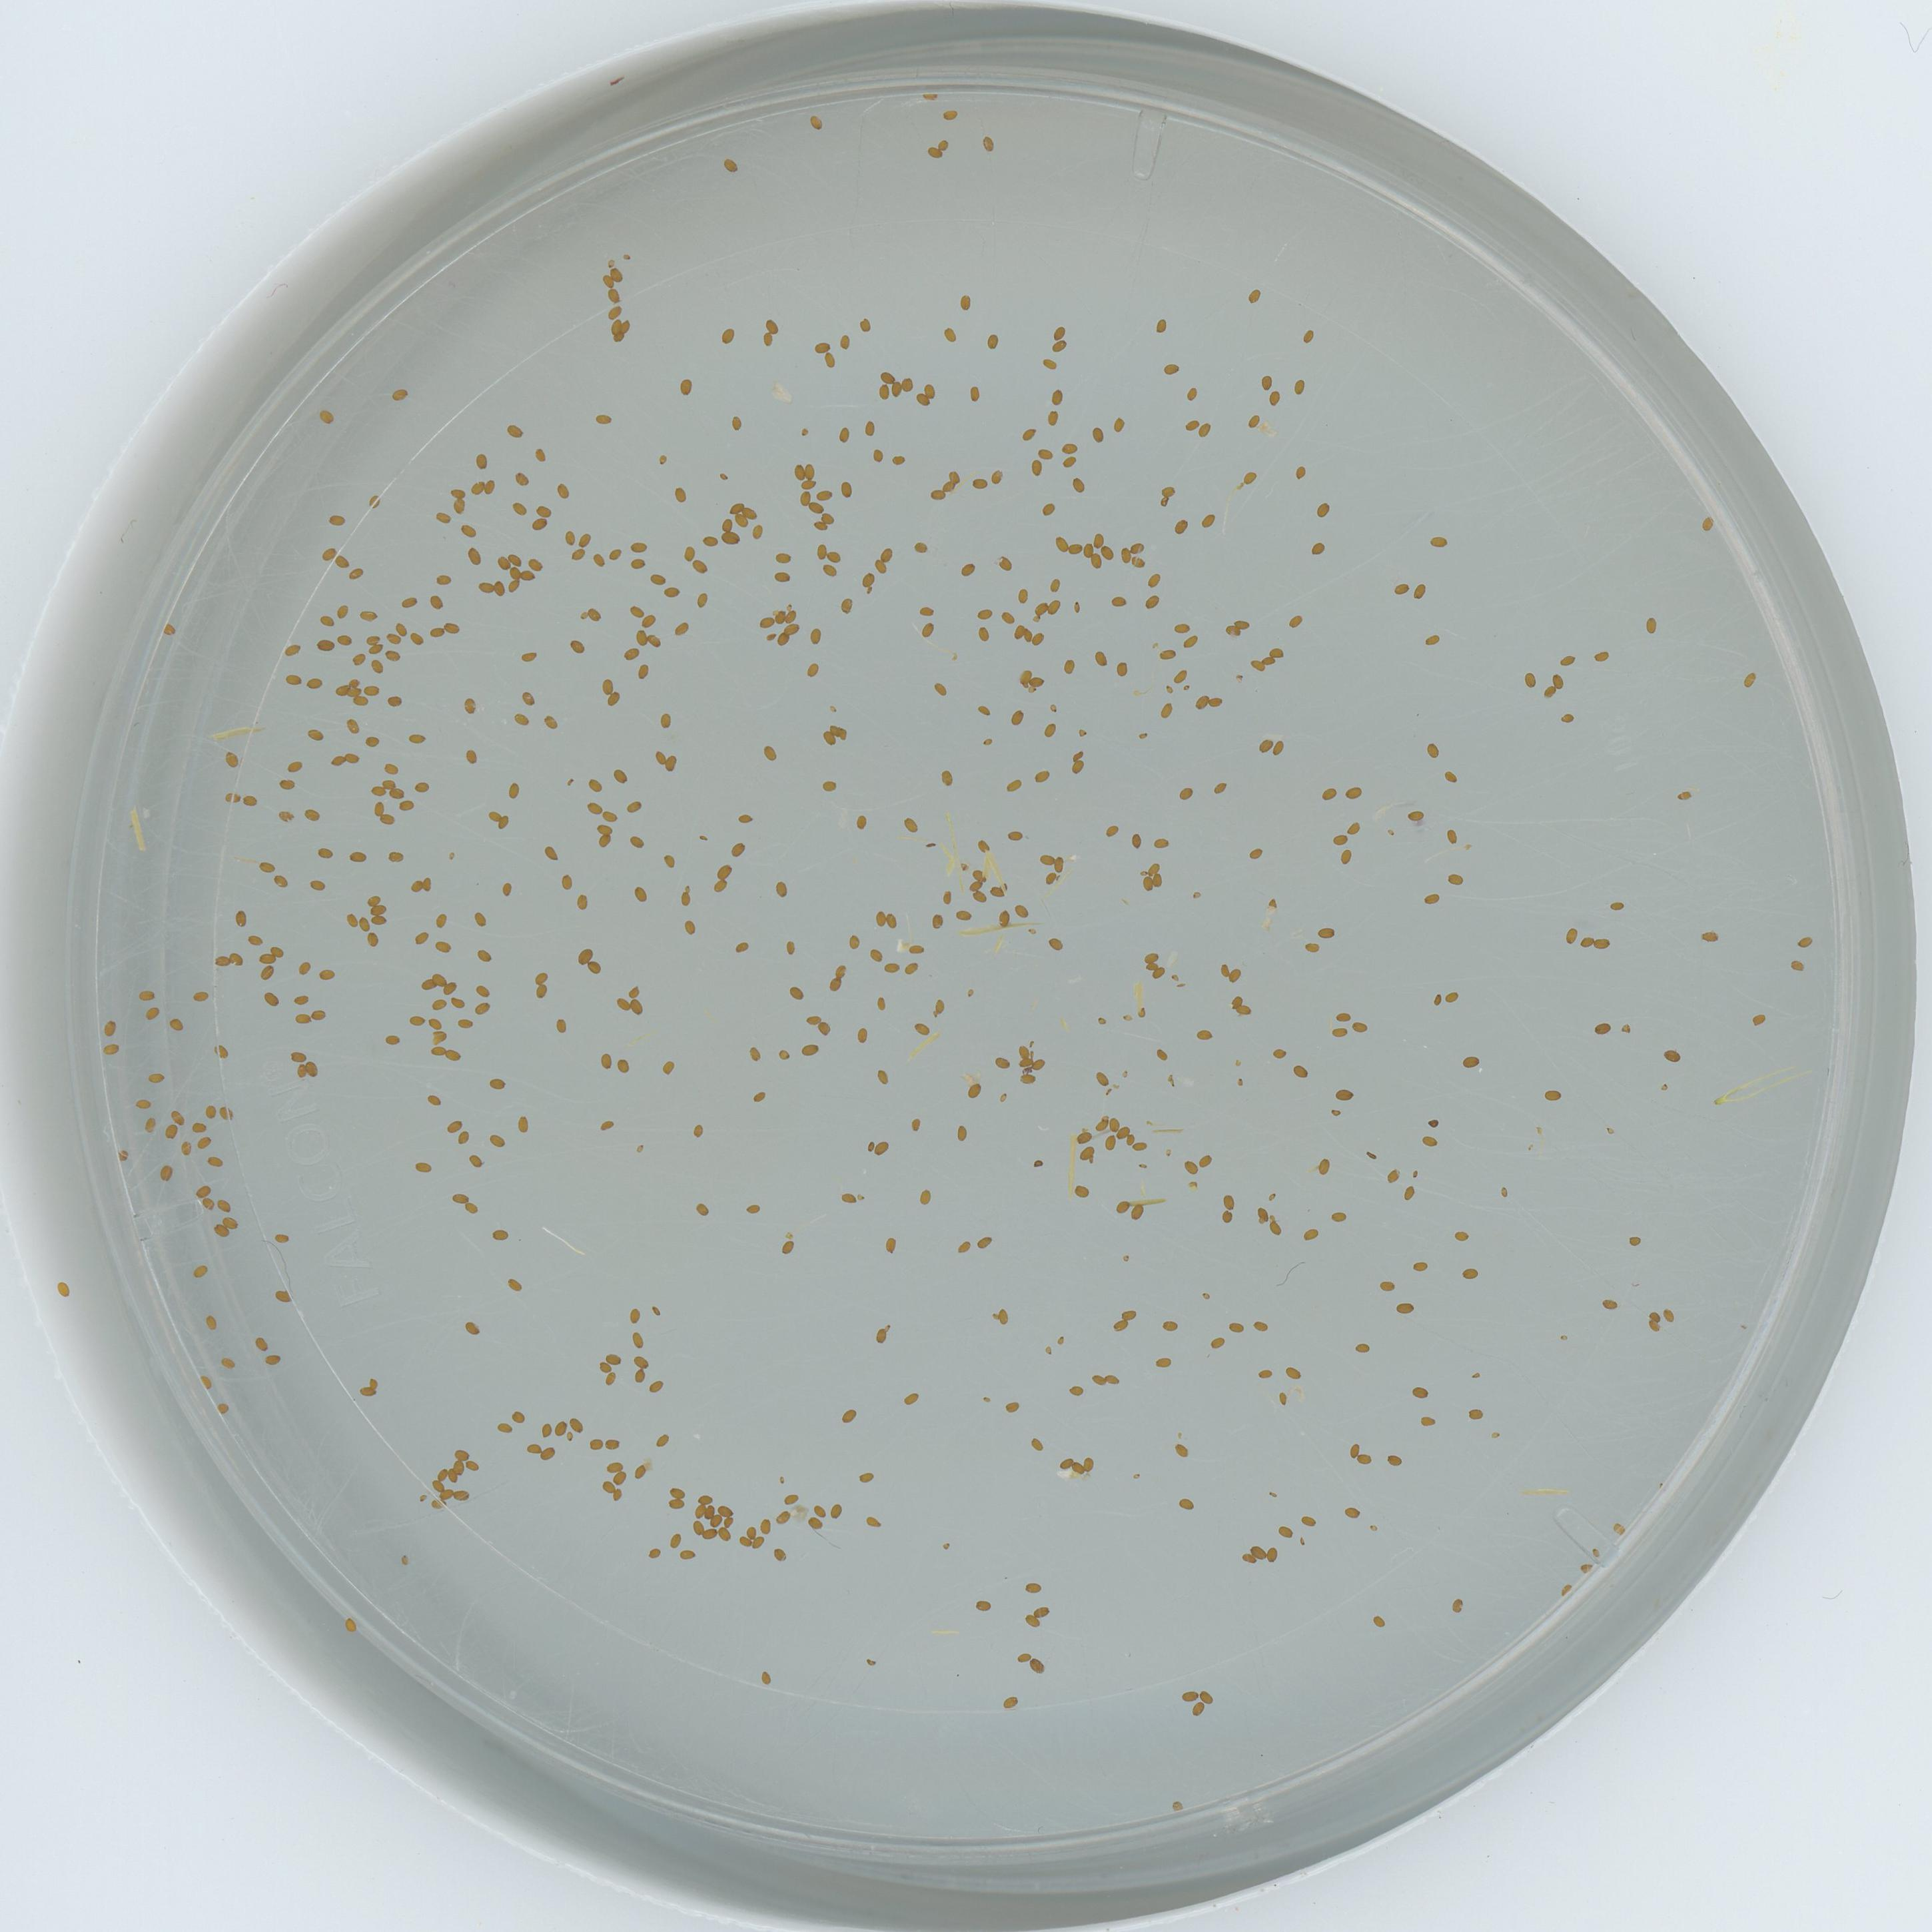seed: (462, 545, 485, 566), (1332, 1081, 1353, 1100), (1562, 925, 1580, 948), (1661, 1044, 1684, 1062), (458, 520, 478, 540), (1079, 1146, 1099, 1166), (690, 557, 709, 575), (283, 671, 303, 688), (426, 593, 446, 610), (773, 879, 791, 899), (632, 1461, 651, 1479), (628, 1330, 648, 1348), (513, 1115, 533, 1132), (157, 1162, 175, 1182), (1171, 617, 1191, 635), (1315, 499, 1332, 518), (1067, 474, 1086, 492), (1198, 511, 1217, 529), (1394, 1299, 1414, 1316), (1290, 1060, 1309, 1077), (1463, 1049, 1483, 1067), (729, 840, 747, 858), (862, 419, 879, 437), (432, 911, 449, 929), (839, 479, 856, 497), (632, 885, 649, 902), (343, 718, 361, 736), (527, 554, 545, 571), (460, 697, 478, 715), (694, 591, 711, 609), (570, 637, 587, 655), (839, 596, 856, 614), (327, 510, 345, 527), (368, 658, 386, 676), (678, 888, 695, 906), (341, 911, 359, 929), (929, 911, 947, 929), (435, 936, 453, 954), (612, 768, 630, 786), (763, 745, 780, 763), (764, 317, 782, 334), (656, 711, 674, 729), (672, 485, 690, 502), (472, 451, 490, 469), (649, 570, 667, 587), (232, 909, 249, 927), (724, 156, 741, 173), (876, 1138, 893, 1155), (780, 1237, 798, 1254), (251, 1334, 269, 1352), (147, 1069, 165, 1086), (272, 1286, 290, 1304), (1012, 901, 1030, 918), (1026, 458, 1044, 476), (1127, 832, 1145, 849), (1162, 359, 1180, 377), (1608, 897, 1626, 915), (1258, 372, 1276, 389), (1246, 287, 1263, 304), (1049, 324, 1067, 341), (1410, 582, 1428, 600), (1060, 658, 1077, 676), (959, 563, 977, 580), (1300, 1224, 1318, 1242), (993, 1053, 1010, 1070), (1399, 1184, 1417, 1201), (1093, 1070, 1111, 1088), (1026, 1656, 1044, 1674), (1076, 1127, 1093, 1145), (1090, 1115, 1108, 1132), (975, 1231, 993, 1249), (315, 637, 334, 653), (575, 947, 594, 962), (386, 849, 405, 865), (957, 294, 973, 313), (428, 994, 448, 1010), (775, 1509, 794, 1525), (407, 1010, 426, 1026), (878, 1067, 893, 1086), (1090, 651, 1109, 667), (1012, 587, 1031, 603), (1141, 593, 1161, 609), (920, 88, 939, 104), (366, 494, 386, 510), (304, 1058, 318, 1079), (717, 863, 734, 879), (587, 777, 605, 793), (285, 759, 303, 775), (506, 423, 524, 439), (630, 556, 648, 571), (347, 566, 364, 582), (349, 849, 366, 865), (308, 878, 326, 893), (513, 471, 531, 487), (320, 545, 338, 561), (433, 510, 451, 525), (449, 499, 467, 515), (412, 778, 430, 794), (939, 890, 955, 908), (902, 817, 920, 833), (272, 874, 290, 890), (543, 715, 561, 731), (393, 621, 410, 637), (837, 426, 853, 444), (531, 517, 548, 533), (630, 538, 648, 554), (278, 809, 295, 824), (303, 807, 320, 823), (543, 846, 559, 863), (428, 623, 446, 639), (594, 410, 612, 426), (359, 607, 377, 623), (628, 603, 646, 619), (626, 798, 644, 814), (678, 379, 695, 395), (306, 674, 324, 690), (681, 543, 699, 559), (628, 833, 646, 849), (559, 876, 575, 893), (363, 683, 380, 699), (920, 621, 936, 639), (520, 648, 538, 663), (805, 662, 823, 678), (605, 287, 623, 303), (607, 303, 625, 318), (775, 568, 791, 586), (363, 734, 380, 750), (442, 617, 460, 633), (577, 531, 594, 547), (602, 809, 619, 824), (435, 570, 453, 586), (554, 483, 571, 499), (380, 759, 398, 775), (315, 846, 333, 862), (775, 548, 793, 564), (625, 646, 642, 662), (573, 893, 591, 909), (518, 690, 536, 706), (674, 619, 692, 635), (257, 860, 274, 876), (908, 941, 925, 957), (511, 501, 529, 517), (398, 798, 416, 814), (407, 731, 425, 747), (334, 632, 352, 648), (814, 338, 832, 354), (821, 352, 839, 368), (837, 333, 855, 349), (586, 607, 603, 623), (821, 731, 839, 747), (283, 642, 301, 658), (345, 674, 363, 690), (858, 315, 874, 333), (370, 911, 387, 927), (242, 791, 258, 809), (384, 632, 402, 648), (363, 931, 380, 947), (801, 1039, 819, 1054), (472, 1000, 490, 1016), (288, 1044, 306, 1060), (451, 1187, 469, 1203), (464, 1318, 481, 1334), (630, 998, 648, 1014), (633, 1352, 651, 1368), (855, 1028, 872, 1044), (874, 993, 892, 1008), (607, 1458, 625, 1474), (264, 991, 281, 1007), (784, 1490, 801, 1506), (428, 1014, 446, 1030), (446, 1116, 462, 1134), (487, 1131, 504, 1146), (616, 1056, 632, 1074), (587, 1435, 605, 1451), (290, 991, 308, 1007), (694, 1200, 711, 1215), (552, 1016, 570, 1031), (467, 1152, 485, 1168), (605, 1350, 623, 1366), (649, 1378, 667, 1394), (414, 1157, 432, 1173), (428, 1042, 446, 1058), (492, 1224, 510, 1240), (913, 1017, 931, 1033), (690, 1520, 708, 1536), (506, 1276, 524, 1292), (55, 1279, 71, 1297), (679, 1546, 697, 1562), (600, 1053, 616, 1070), (166, 1016, 184, 1031), (540, 1445, 557, 1461), (262, 1350, 280, 1366), (840, 1407, 858, 1422), (193, 1182, 211, 1198), (747, 1044, 764, 1060), (916, 1191, 934, 1207), (207, 1154, 225, 1169), (789, 985, 807, 1001), (214, 1196, 232, 1212), (133, 1093, 150, 1109), (202, 1102, 219, 1118), (955, 1238, 973, 1254), (177, 1139, 195, 1155), (998, 609, 1016, 625), (1392, 580, 1410, 596), (1007, 826, 1023, 844), (1702, 927, 1720, 943), (1037, 444, 1054, 460), (1594, 934, 1612, 950), (984, 333, 1001, 349), (996, 556, 1014, 571), (1523, 672, 1541, 688), (1407, 809, 1424, 824), (1345, 786, 1362, 801), (1150, 317, 1168, 333), (1008, 709, 1026, 725), (1316, 924, 1334, 939), (1046, 934, 1063, 950), (1422, 892, 1440, 908), (1265, 389, 1283, 405), (1330, 832, 1348, 847), (1031, 768, 1049, 784), (1644, 616, 1660, 633), (1320, 786, 1338, 801), (1430, 533, 1447, 548), (1039, 722, 1056, 738), (1051, 536, 1067, 554), (1046, 598, 1063, 614), (1042, 409, 1060, 425), (1338, 849, 1355, 865), (1152, 835, 1168, 853), (1141, 948, 1159, 964), (1039, 356, 1056, 372), (1035, 853, 1053, 869), (1005, 777, 1023, 793), (1286, 614, 1304, 630), (975, 626, 993, 642), (1171, 518, 1189, 534), (1424, 743, 1442, 759), (1578, 932, 1596, 948), (1445, 872, 1463, 888), (987, 469, 1005, 485), (1065, 600, 1083, 616), (978, 134, 996, 150), (987, 883, 1005, 899), (1129, 556, 1146, 571), (1258, 736, 1274, 754), (1180, 635, 1198, 651), (1741, 672, 1759, 688), (1023, 1578, 1040, 1594), (1265, 1545, 1281, 1562), (1178, 1159, 1196, 1175), (1350, 1017, 1368, 1033), (1378, 1276, 1396, 1292), (1005, 1398, 1021, 1415), (1276, 1523, 1293, 1539), (1256, 1366, 1274, 1382), (1461, 1265, 1479, 1281), (1594, 1019, 1612, 1035), (1601, 1295, 1619, 1311), (1626, 1231, 1644, 1247), (1001, 1693, 1019, 1709), (1111, 1198, 1129, 1214), (1219, 1192, 1237, 1208), (1412, 1382, 1428, 1399), (1453, 1228, 1470, 1244), (1299, 1513, 1316, 1529), (1072, 1182, 1090, 1198), (1545, 1085, 1562, 1100), (1265, 1219, 1283, 1235), (1315, 1157, 1332, 1173), (1226, 968, 1244, 984), (1661, 1306, 1679, 1322), (1283, 1362, 1300, 1378), (1014, 1647, 1031, 1663), (104, 1019, 120, 1037), (219, 1355, 237, 1371), (196, 1375, 214, 1391), (212, 1401, 230, 1417), (223, 791, 241, 807), (223, 752, 241, 768), (157, 621, 175, 637), (902, 961, 922, 975), (294, 1062, 308, 1081), (1787, 957, 1806, 971), (1645, 1320, 1665, 1334), (600, 678, 616, 694), (449, 483, 465, 499), (334, 556, 350, 571), (637, 663, 653, 679), (472, 911, 488, 927), (642, 614, 658, 630), (478, 579, 494, 594), (892, 451, 908, 467), (534, 501, 550, 517), (720, 327, 736, 343), (412, 929, 428, 945), (364, 890, 380, 906), (941, 326, 957, 341), (879, 368, 895, 384), (812, 543, 828, 559), (607, 545, 623, 561), (932, 681, 948, 697), (881, 545, 897, 561), (939, 770, 955, 786), (533, 448, 548, 464), (862, 571, 878, 587), (476, 947, 492, 962), (379, 814, 395, 830), (713, 879, 729, 895), (402, 594, 418, 610), (872, 909, 888, 925), (683, 918, 699, 934), (809, 115, 824, 131), (823, 778, 839, 794), (508, 552, 524, 568), (718, 515, 734, 531), (596, 835, 612, 851), (561, 529, 577, 545), (784, 939, 800, 955), (918, 602, 934, 617), (513, 711, 529, 727), (662, 855, 678, 870), (828, 548, 844, 564), (817, 485, 833, 501), (823, 563, 839, 579), (941, 106, 957, 122), (607, 692, 623, 708), (506, 782, 522, 798), (855, 816, 870, 832), (901, 375, 916, 391), (803, 464, 819, 479), (467, 479, 483, 495), (230, 952, 246, 968), (494, 554, 510, 570), (483, 478, 499, 494), (874, 559, 890, 575), (810, 628, 826, 644), (750, 524, 766, 540), (370, 801, 386, 817), (495, 816, 511, 832), (391, 386, 407, 402), (777, 632, 793, 648), (294, 1010, 310, 1026), (605, 1435, 621, 1451), (632, 1368, 648, 1384), (904, 1389, 920, 1405), (860, 1468, 876, 1484), (446, 1044, 462, 1060), (812, 1502, 828, 1518), (191, 987, 207, 1003), (648, 1545, 663, 1560), (456, 1129, 472, 1145), (669, 1532, 685, 1548), (195, 1134, 211, 1150), (456, 1014, 472, 1030), (455, 1486, 471, 1502), (191, 1261, 207, 1277), (885, 1237, 901, 1253), (828, 1504, 844, 1520), (464, 1200, 479, 1215), (626, 1307, 642, 1323), (138, 987, 154, 1003), (425, 1090, 441, 1106), (570, 1417, 586, 1433), (809, 1516, 824, 1532), (510, 1408, 525, 1424), (669, 1497, 685, 1513), (867, 1513, 883, 1529), (655, 1431, 671, 1447), (534, 968, 550, 984), (143, 1003, 159, 1019), (752, 1088, 768, 1104), (534, 982, 550, 998), (600, 1115, 616, 1131), (909, 1115, 925, 1131), (773, 1546, 789, 1562), (189, 1118, 205, 1134), (759, 1670, 775, 1686), (718, 1527, 734, 1543), (538, 1421, 554, 1437), (874, 1327, 890, 1343), (103, 1039, 119, 1054), (163, 1123, 179, 1139), (203, 1313, 219, 1329), (931, 998, 947, 1014), (170, 1109, 186, 1125), (214, 1044, 230, 1060), (1047, 389, 1063, 405), (1300, 327, 1316, 343), (1109, 594, 1125, 610), (1040, 872, 1056, 888), (1192, 694, 1208, 709), (1088, 426, 1104, 442), (966, 386, 982, 402), (1021, 426, 1037, 442), (1109, 416, 1125, 432), (1309, 540, 1325, 556), (1113, 662, 1129, 678), (1560, 653, 1576, 669), (1099, 545, 1115, 561), (1157, 702, 1173, 718), (977, 605, 993, 621), (1246, 412, 1261, 428), (1182, 416, 1198, 432), (1272, 740, 1288, 755), (994, 909, 1010, 925), (1159, 648, 1175, 663), (1424, 632, 1440, 648), (1290, 379, 1306, 395), (1145, 573, 1161, 589), (1046, 577, 1062, 593), (1208, 694, 1224, 709), (1346, 821, 1362, 837), (1102, 823, 1118, 839), (1247, 846, 1263, 862), (1088, 531, 1104, 547), (1444, 830, 1460, 846), (1263, 897, 1279, 913), (1700, 515, 1716, 531), (1016, 667, 1031, 683), (1067, 1382, 1083, 1398), (1253, 1207, 1269, 1223), (1154, 1353, 1169, 1369), (1412, 1256, 1428, 1272), (1345, 1504, 1361, 1520), (1208, 1332, 1224, 1348), (1369, 1614, 1385, 1629), (1191, 1702, 1207, 1718), (1449, 1598, 1465, 1614), (1270, 1044, 1286, 1060), (1177, 1495, 1192, 1511), (1122, 1306, 1138, 1322), (975, 1598, 991, 1614), (966, 1081, 982, 1097), (1196, 1152, 1212, 1168), (1161, 1316, 1177, 1332), (1422, 1132, 1438, 1148), (1228, 1316, 1244, 1332), (1026, 1435, 1042, 1451), (1196, 1026, 1212, 1042), (1330, 1207, 1346, 1223), (1253, 1316, 1269, 1332), (1274, 1391, 1290, 1407), (1468, 1403, 1484, 1419), (1129, 1203, 1145, 1219), (1171, 1440, 1187, 1456), (996, 1307, 1012, 1323), (1228, 993, 1244, 1008), (1578, 1560, 1594, 1576), (1169, 1798, 1185, 1813), (113, 1146, 129, 1162), (143, 1118, 159, 1134), (350, 653, 368, 667), (318, 614, 336, 628), (724, 531, 741, 545), (343, 750, 361, 764), (807, 501, 824, 515), (665, 755, 679, 773), (306, 729, 324, 743), (246, 932, 264, 947), (382, 649, 400, 663), (257, 950, 274, 964), (925, 145, 943, 159), (663, 586, 681, 600), (869, 947, 886, 961), (913, 391, 931, 405), (922, 380, 936, 398), (702, 533, 720, 547), (474, 984, 492, 998), (418, 978, 435, 993), (448, 994, 465, 1008), (816, 1021, 833, 1035), (662, 1060, 679, 1074), (775, 1046, 793, 1060), (384, 1030, 402, 1044), (602, 1371, 619, 1385), (221, 1215, 239, 1230), (272, 1230, 290, 1244), (586, 961, 603, 975), (488, 1074, 506, 1088), (1060, 439, 1077, 453), (1302, 939, 1320, 954), (1184, 386, 1201, 400), (1169, 669, 1187, 683), (1675, 789, 1693, 803), (1223, 625, 1240, 639), (1330, 1024, 1348, 1039), (1384, 1168, 1401, 1182), (1334, 1008, 1352, 1023), (1419, 1414, 1437, 1428), (1385, 1453, 1403, 1467), (1182, 1688, 1200, 1702), (1251, 1543, 1265, 1560), (1235, 1003, 1253, 1017), (1115, 1125, 1132, 1139), (954, 908, 973, 920), (759, 616, 775, 630), (278, 778, 294, 793), (334, 605, 350, 619), (586, 801, 602, 816), (370, 786, 386, 800), (464, 750, 479, 764), (633, 630, 648, 646), (870, 448, 886, 462), (271, 943, 287, 957), (407, 632, 423, 646), (913, 540, 929, 554), (386, 694, 402, 708), (651, 750, 665, 766), (929, 488, 945, 502), (329, 754, 345, 768), (591, 554, 607, 568), (727, 501, 743, 515), (421, 876, 435, 892), (389, 786, 405, 800), (736, 938, 750, 954), (847, 934, 863, 948), (499, 883, 515, 897), (738, 812, 754, 826), (791, 465, 807, 479), (596, 823, 612, 837), (648, 633, 663, 648), (729, 416, 745, 430), (761, 333, 777, 347), (886, 913, 901, 929), (407, 879, 423, 893), (487, 809, 502, 823), (619, 318, 633, 334), (798, 492, 814, 506), (947, 469, 962, 483), (786, 609, 801, 623), (453, 1444, 469, 1458), (626, 984, 642, 998), (614, 996, 630, 1010), (524, 1440, 540, 1454), (840, 1189, 856, 1203), (612, 1470, 628, 1484), (359, 1384, 375, 1398), (952, 1123, 966, 1139), (465, 1460, 481, 1474), (669, 1484, 685, 1499), (697, 1490, 713, 1504), (442, 980, 458, 994), (690, 1125, 706, 1139), (745, 1201, 761, 1215), (828, 977, 844, 991), (212, 1223, 228, 1237), (497, 1421, 513, 1435), (310, 1007, 326, 1021), (807, 1010, 823, 1024), (341, 1619, 357, 1633), (318, 968, 334, 982), (200, 1198, 216, 1212), (446, 1470, 462, 1484), (433, 1467, 449, 1481), (702, 1527, 718, 1541), (648, 1304, 663, 1318), (833, 966, 849, 980), (218, 1106, 234, 1120), (1594, 649, 1610, 663), (1039, 502, 1054, 517), (1060, 455, 1076, 469), (1444, 770, 1460, 784), (1069, 761, 1085, 775), (975, 839, 991, 853), (975, 702, 991, 717), (1541, 686, 1557, 701), (1177, 787, 1192, 801), (1550, 674, 1566, 688), (1560, 711, 1576, 725), (970, 476, 985, 490), (1798, 934, 1813, 948), (1129, 540, 1145, 554), (1212, 780, 1228, 794), (1116, 548, 1131, 564), (1292, 464, 1307, 478), (1242, 469, 1258, 483), (1198, 421, 1212, 437), (1067, 541, 1083, 556), (1079, 543, 1093, 559), (1031, 600, 1046, 616), (1159, 483, 1175, 497), (970, 869, 985, 883), (1051, 856, 1065, 872), (1030, 632, 1046, 646), (1030, 1056, 1046, 1070), (1033, 1603, 1049, 1617), (1444, 989, 1460, 1003), (1113, 1318, 1129, 1332), (1198, 1690, 1214, 1704), (1752, 1012, 1767, 1026), (1152, 1046, 1168, 1060), (1428, 993, 1444, 1007), (1353, 1341, 1369, 1355), (1345, 1444, 1361, 1458), (1131, 1139, 1146, 1154), (1023, 1614, 1039, 1628), (1090, 1373, 1106, 1387), (1019, 1070, 1035, 1085), (1104, 1371, 1120, 1385), (1355, 1453, 1371, 1467), (1150, 966, 1166, 980), (1559, 1583, 1575, 1598), (1612, 1522, 1628, 1536), (1019, 1056, 1035, 1070), (352, 695, 370, 708), (878, 384, 890, 402), (366, 644, 384, 656), (333, 685, 350, 697), (1049, 340, 1067, 352), (1145, 862, 1162, 874), (968, 881, 985, 893), (600, 272, 614, 287), (508, 566, 522, 580), (508, 579, 522, 593), (743, 506, 757, 520), (823, 510, 837, 524), (784, 623, 798, 637), (357, 916, 372, 931), (734, 513, 748, 527), (890, 384, 904, 398), (656, 453, 671, 467), (764, 630, 778, 644), (600, 1481, 614, 1495), (761, 1518, 775, 1532), (258, 966, 272, 980), (432, 973, 446, 987), (428, 1479, 442, 1493), (428, 1497, 442, 1511), (297, 961, 311, 975), (1138, 876, 1152, 890), (971, 892, 985, 906), (1150, 874, 1164, 888), (1088, 554, 1102, 568), (1028, 674, 1042, 688), (1056, 1454, 1070, 1468), (1219, 1208, 1233, 1223), (1070, 1460, 1085, 1474), (1081, 1456, 1095, 1470), (1014, 1042, 1028, 1056), (828, 722, 842, 736), (570, 548, 586, 561), (364, 633, 380, 646), (610, 267, 623, 283), (522, 570, 538, 582), (495, 580, 508, 596), (610, 318, 623, 334), (934, 136, 950, 149), (839, 725, 851, 741), (801, 478, 817, 490), (214, 954, 230, 966), (812, 520, 828, 533), (370, 904, 386, 916), (610, 1490, 626, 1502), (717, 1504, 732, 1516), (554, 1421, 566, 1437), (596, 1361, 612, 1373), (885, 961, 901, 973), (437, 1488, 453, 1500), (1069, 748, 1085, 761), (1233, 616, 1249, 628), (1269, 644, 1284, 656), (1249, 660, 1265, 672), (1217, 962, 1230, 978), (1104, 1134, 1116, 1150), (1240, 1553, 1256, 1566), (1108, 1116, 1120, 1132), (320, 410, 333, 426), (1645, 1311, 1663, 1322), (941, 479, 955, 492), (775, 610, 787, 625), (382, 777, 396, 789), (754, 1536, 766, 1550), (738, 1536, 752, 1548), (865, 1138, 878, 1152), (453, 1460, 465, 1474), (709, 1514, 724, 1527), (366, 1376, 380, 1389), (1123, 1132, 1136, 1146), (704, 1504, 717, 1518), (610, 333, 625, 345), (347, 686, 361, 699), (1023, 626, 1031, 646), (432, 1030, 448, 1040), (1028, 616, 1044, 626), (1145, 961, 1161, 971), (1155, 495, 1168, 508), (745, 1527, 759, 1537), (1589, 1546, 1603, 1557), (1260, 656, 1276, 665), (1014, 625, 1023, 640), (695, 1506, 706, 1518), (563, 1430, 575, 1440), (724, 1516, 736, 1527)
